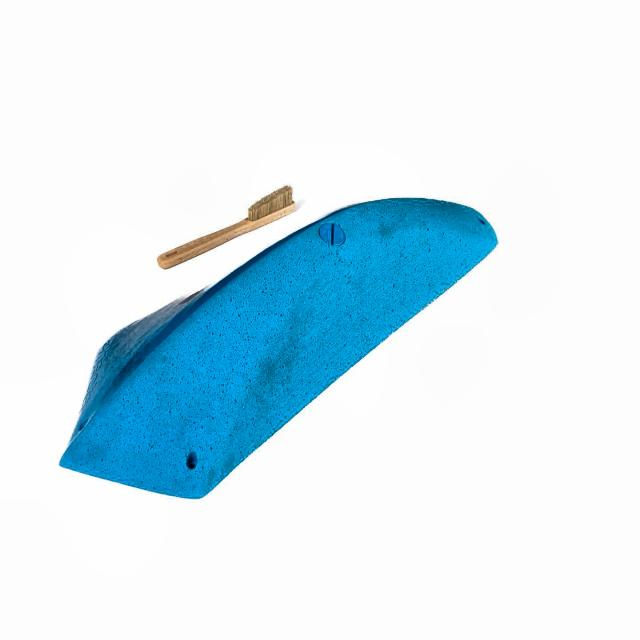Hold: (40, 183, 518, 518)
